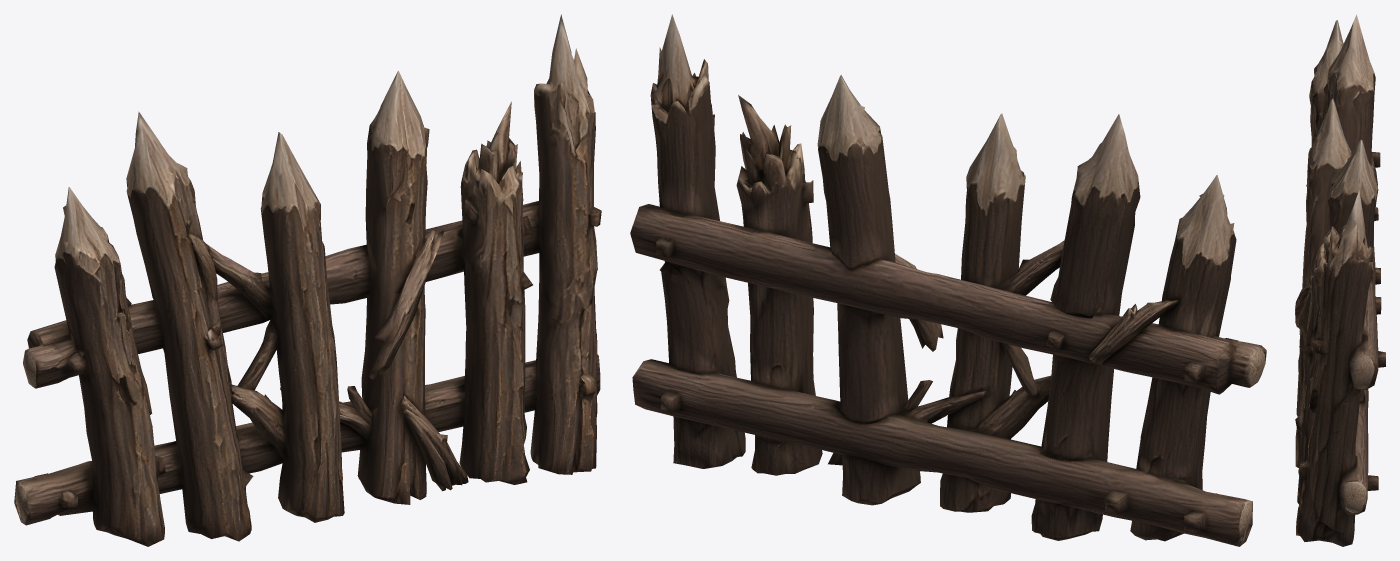
Rendered from palisade.glb.
3 views of the same model, side by side, from view 1: azimuth 30°, elevation 25°; view 2: azimuth 150°, elevation 25°; view 3: azimuth 270°, elevation 25° (orthographic). The views are drawn at different scales.
Visible parts, largest first — view 1: tripo_node_fd999815-beae-414c-ac27-cf9a2ae715d4; view 2: tripo_node_fd999815-beae-414c-ac27-cf9a2ae715d4; view 3: tripo_node_fd999815-beae-414c-ac27-cf9a2ae715d4.
Part boxes in pixels (x1,y1,x2,y2): tripo_node_fd999815-beae-414c-ac27-cf9a2ae715d4: (14, 14, 601, 546); tripo_node_fd999815-beae-414c-ac27-cf9a2ae715d4: (630, 14, 1266, 546); tripo_node_fd999815-beae-414c-ac27-cf9a2ae715d4: (1295, 14, 1385, 546).
Bounding box in the file's own units: 1.8 × 1.31 × 0.2982.
1 material, 1 textured.
